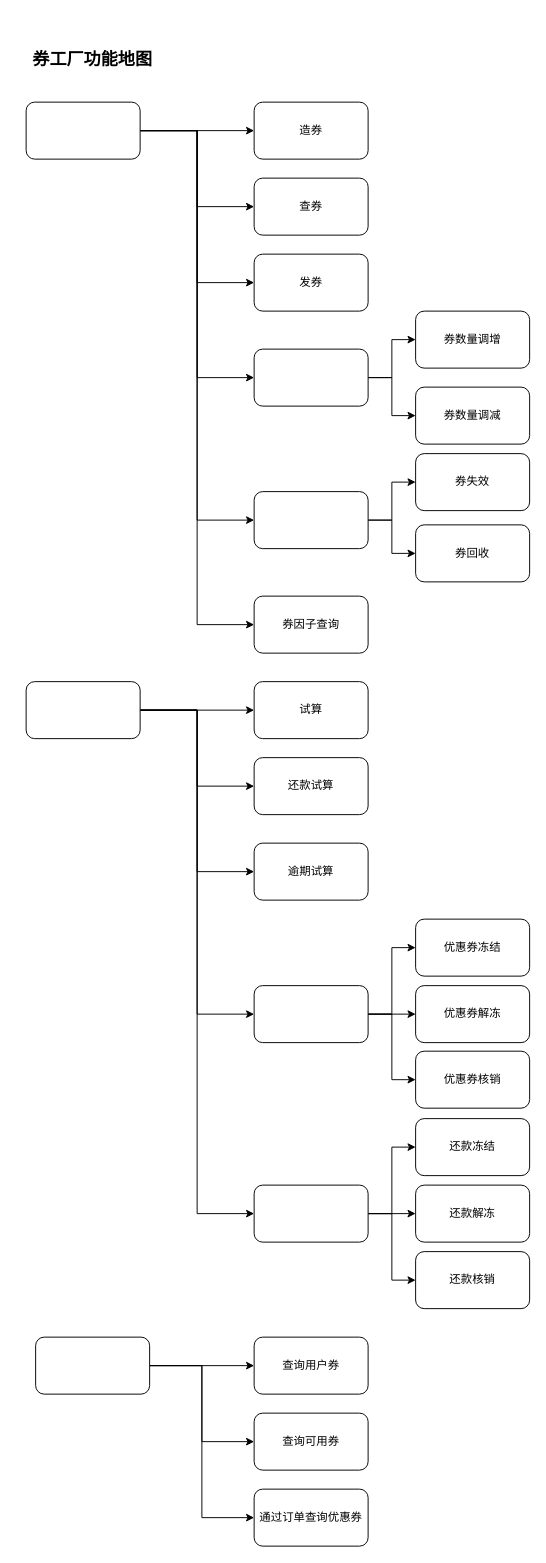
Image size: 546x1563. Some labels were removed from this diagram. Each missing label, with the centre of its shape:
CMS: the point at 82,130
优惠券使用: the point at 310,1014
券数量调整: the point at 310,377
券状态修改: the point at 310,520
小贷用券: the point at 82,710
用户券: the point at 92,1365
还款: the point at 310,1213
